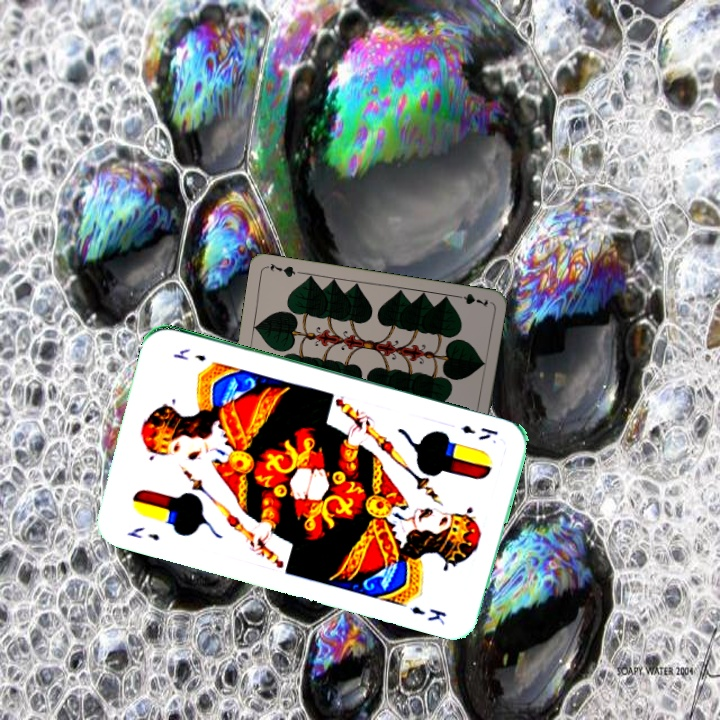EK: (458, 421, 501, 443), (123, 523, 162, 544)
G7: (450, 289, 491, 309)
